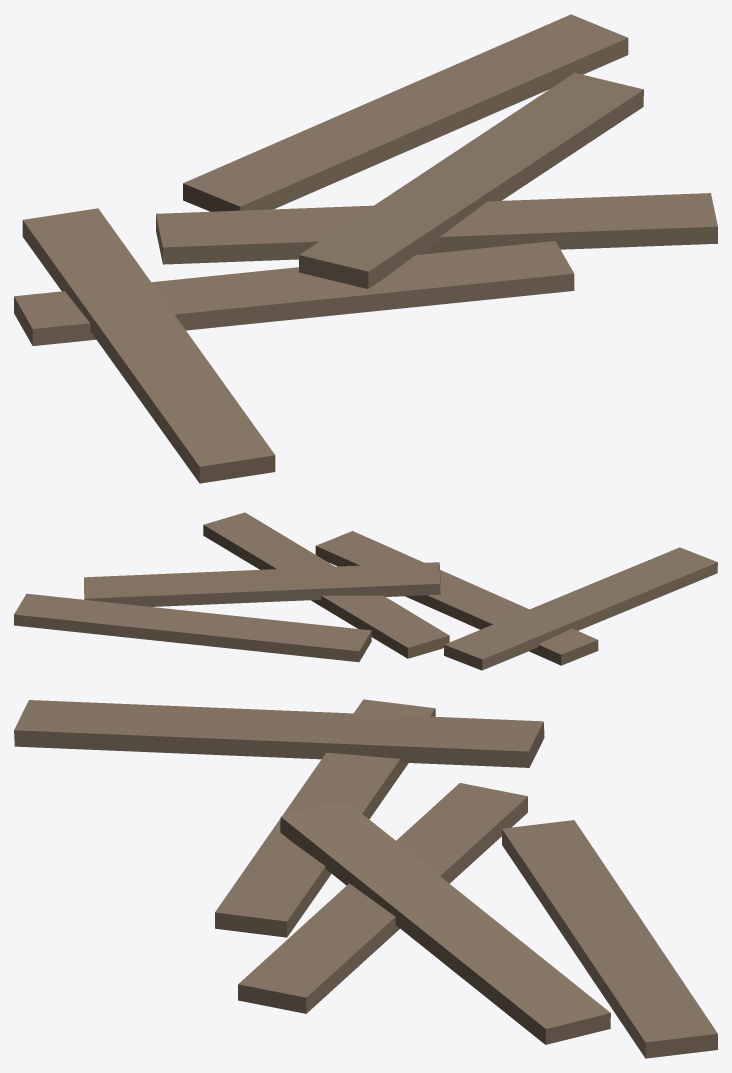
The model's file is SD_Prop_Panks_03.fbx.
3 views of the same model, one above another, from view 1: azimuth 30°, elevation 25°; view 2: azimuth 150°, elevation 25°; view 3: azimuth 270°, elevation 25° (orthographic). The views are drawn at different scales.
Parts seen in each view (by area): view 1: SD_Prop_Panks_03; view 2: SD_Prop_Panks_03; view 3: SD_Prop_Panks_03.
Part boxes in pixels (x1,y1,x2,y2): SD_Prop_Panks_03: (14,14,717,483); SD_Prop_Panks_03: (14,512,717,670); SD_Prop_Panks_03: (14,699,717,1058).
Size of the model in its own units: 6.46 by 0.344 by 5.52.
